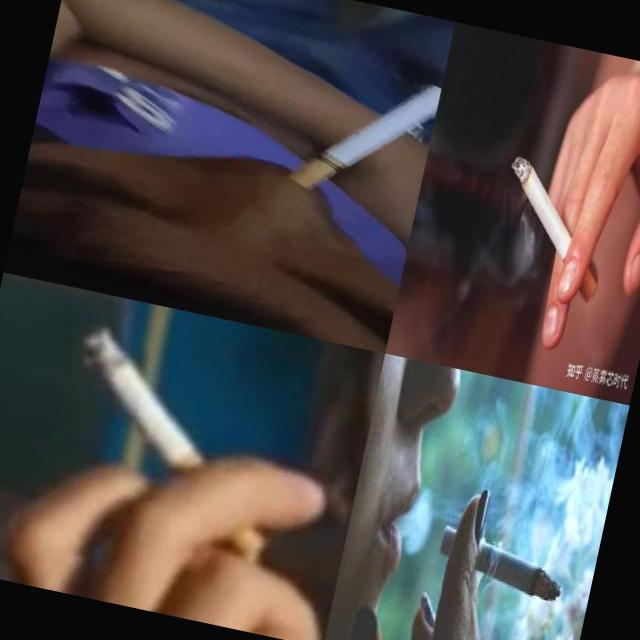smoke: (52, 314, 234, 480), (292, 60, 441, 213), (486, 154, 620, 306), (434, 523, 570, 602)
